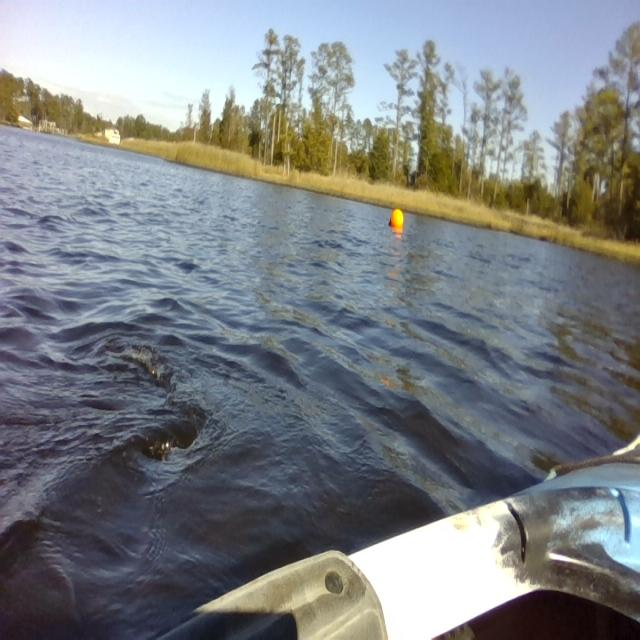Buoy: (388, 204, 407, 237)
